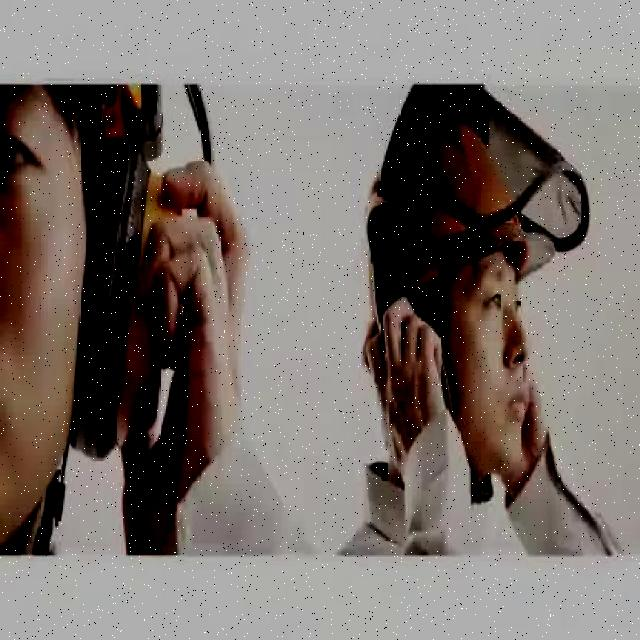Helmet: (366, 117, 554, 326)
